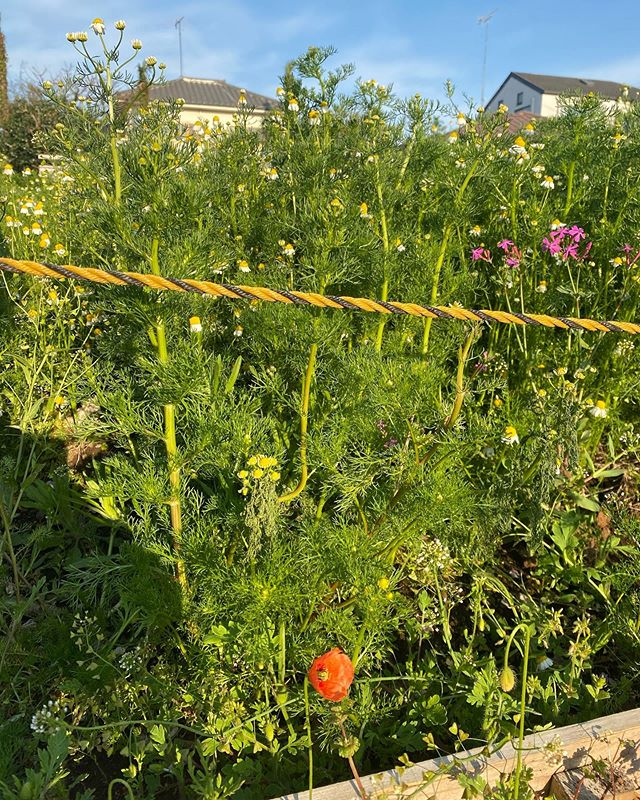building: (470, 64, 640, 136), (111, 69, 293, 135)
sky: (23, 1, 640, 78)
vegetation: (1, 135, 640, 800)
